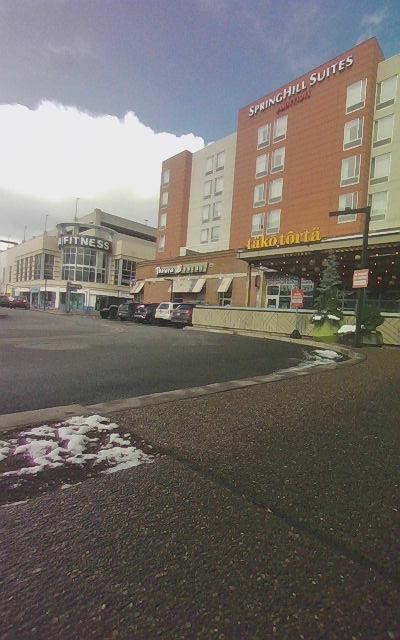curb: (0, 348, 399, 639)
road: (0, 311, 344, 414)
